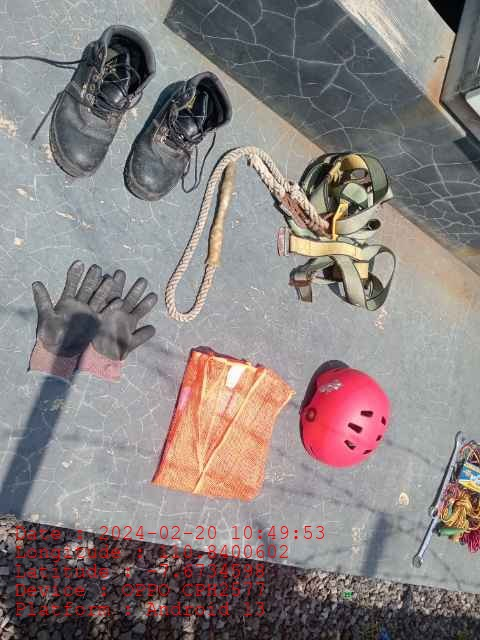HELM: (299, 369, 391, 467)
ROMPI: (158, 346, 295, 505)
SARUNG_TANGAN: (29, 260, 115, 380)
SEPATU: (48, 25, 234, 202)
